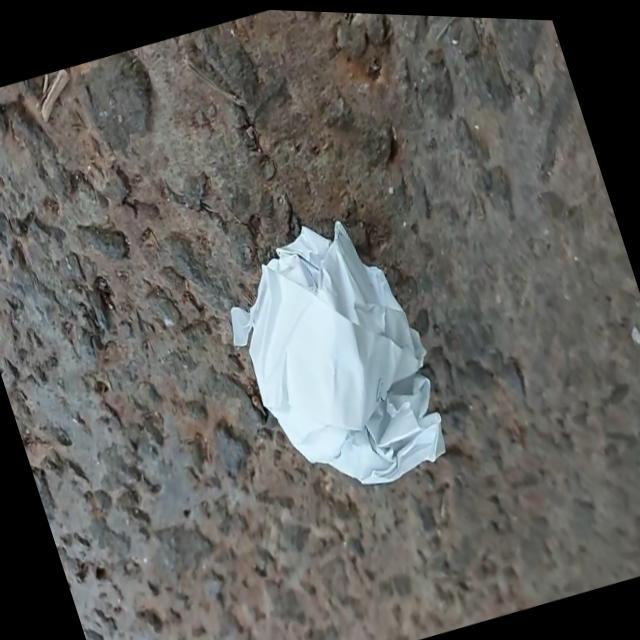paper: (231, 222, 444, 483)
